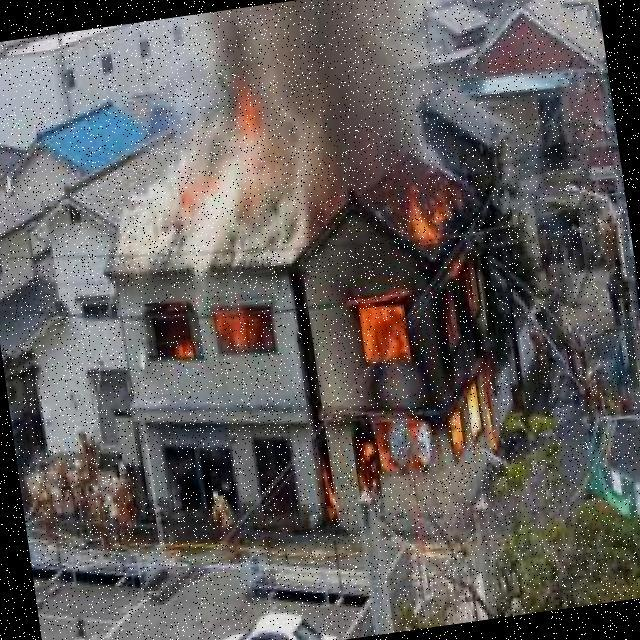Fire: (317, 144, 530, 488), (149, 98, 275, 223), (139, 290, 287, 375)
